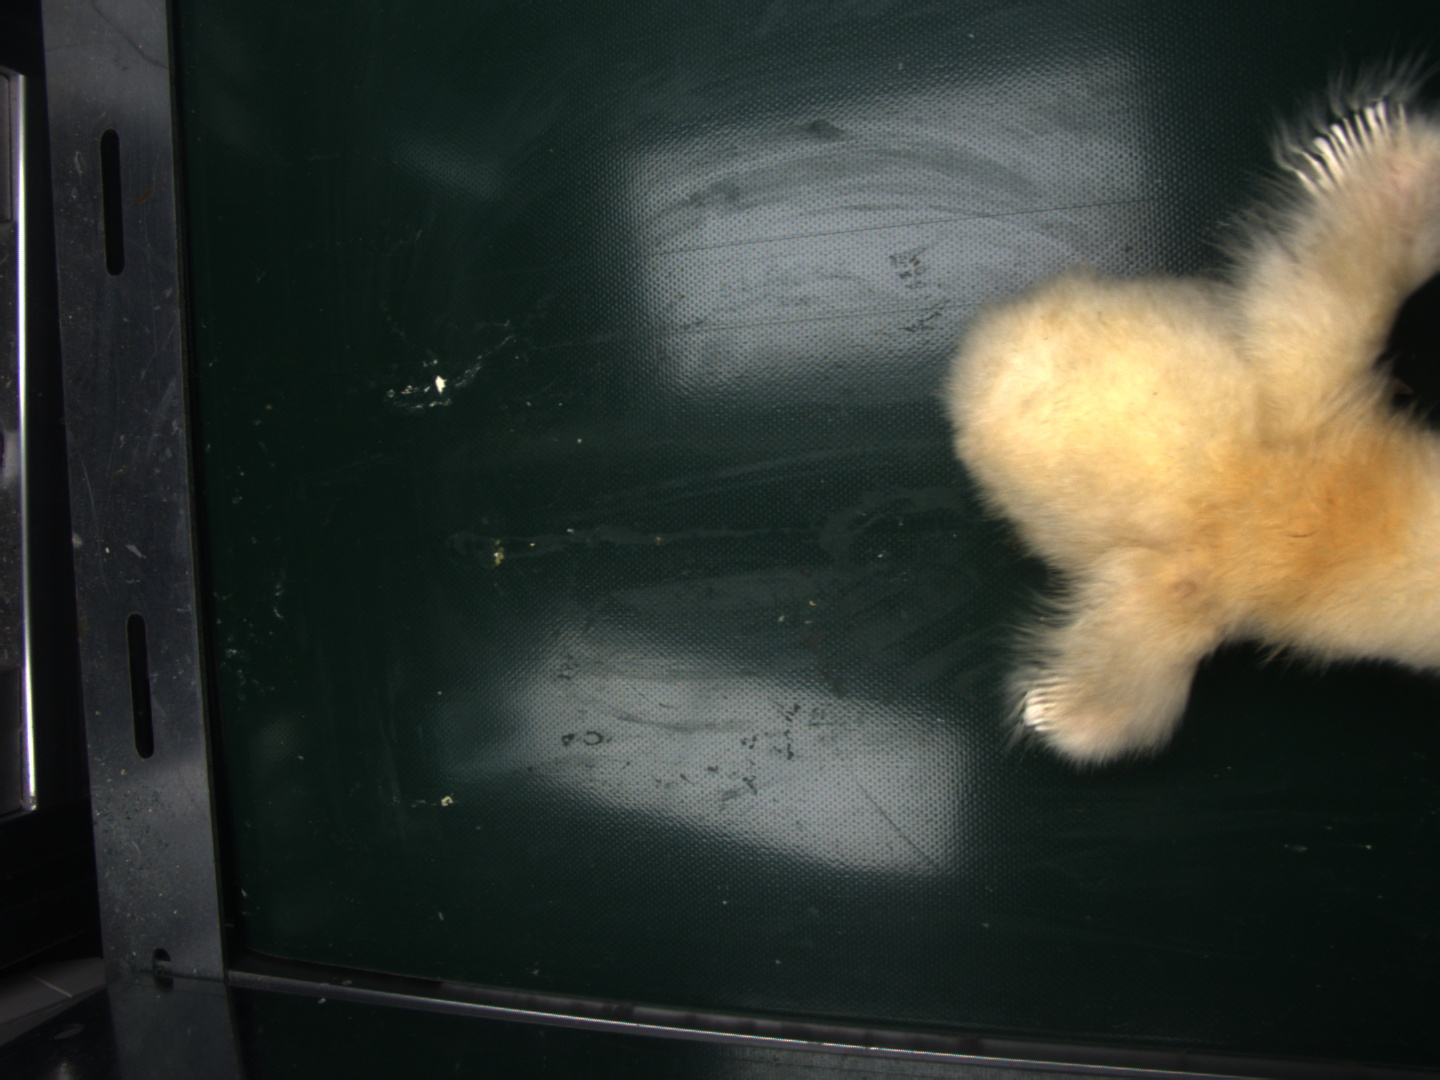male: (1298, 98, 1404, 195)
